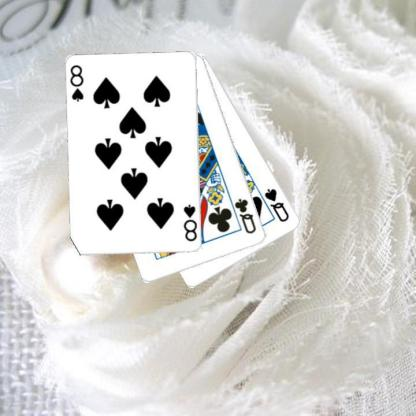8S: (68, 63, 86, 103), (182, 202, 198, 242)
QC: (232, 196, 258, 235)
QS: (262, 186, 290, 223)
